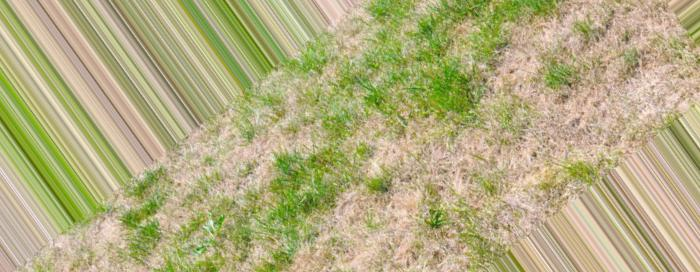patch: (457, 129, 562, 209), (324, 210, 402, 272), (564, 8, 634, 38), (61, 245, 136, 267), (622, 74, 676, 99), (570, 101, 614, 131), (509, 68, 531, 97), (234, 154, 270, 170)
